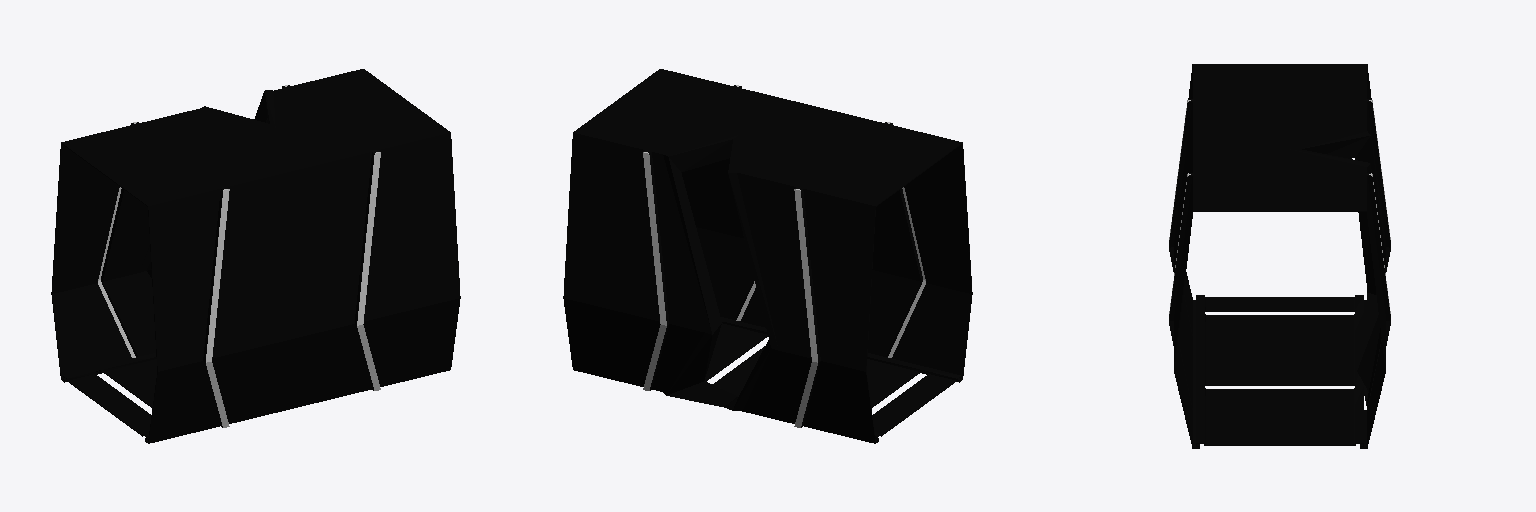
File: viaduct1.obj
3 renders of one model, left to right at view 1: azimuth 30°, elevation 25°; view 2: azimuth 150°, elevation 25°; view 3: azimuth 270°, elevation 25°, orthographic.
Visible parts, largest first — view 1: Cube_Cube.005; view 2: Cube_Cube.005; view 3: Cube_Cube.005.
Part boxes in pixels (left/top/right/bottom): Cube_Cube.005: left=51, top=69, right=460, bottom=443; Cube_Cube.005: left=563, top=69, right=972, bottom=443; Cube_Cube.005: left=1169, top=64, right=1390, bottom=448.
Bounding box in the file's own units: 3.23 × 2.43 × 2.06.